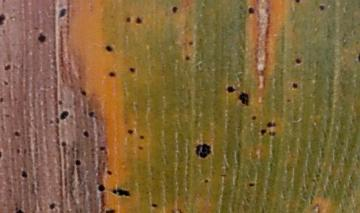tarspot: (198, 142, 212, 159), (237, 90, 250, 106), (116, 187, 133, 198), (36, 32, 47, 44), (58, 109, 69, 120), (57, 7, 67, 19), (193, 143, 201, 157), (225, 84, 236, 94), (96, 183, 106, 192), (81, 129, 90, 138), (104, 44, 113, 53), (293, 56, 302, 65), (20, 169, 28, 179), (3, 63, 11, 72), (79, 88, 87, 97), (73, 158, 82, 166), (134, 16, 143, 24), (265, 120, 272, 130), (30, 182, 35, 195), (13, 130, 21, 138), (48, 202, 56, 210), (87, 110, 95, 118), (108, 70, 116, 78), (247, 6, 255, 14), (259, 128, 267, 136), (53, 116, 60, 125), (247, 181, 256, 188), (14, 207, 24, 213), (1, 12, 5, 26), (2, 79, 9, 87), (105, 169, 113, 176), (128, 66, 136, 73), (171, 5, 178, 13), (317, 4, 325, 11), (126, 128, 135, 134), (150, 202, 159, 208), (56, 98, 63, 105), (60, 140, 67, 147), (110, 187, 117, 194), (202, 177, 209, 184), (183, 54, 190, 61), (250, 114, 257, 121), (291, 82, 298, 89), (15, 147, 21, 155), (97, 145, 105, 151), (136, 145, 144, 151), (356, 51, 360, 62), (3, 112, 10, 118), (33, 145, 39, 152), (19, 62, 25, 69), (32, 25, 39, 31), (47, 118, 53, 125), (89, 147, 95, 154), (138, 134, 145, 140), (125, 16, 131, 23), (176, 207, 183, 213), (187, 40, 194, 46), (1, 124, 5, 134), (22, 147, 27, 155), (271, 130, 277, 136), (270, 121, 276, 127), (285, 98, 291, 104), (169, 208, 176, 213), (1, 149, 4, 160), (1, 28, 6, 34), (13, 96, 18, 102), (267, 130, 272, 136), (292, 1, 301, 4), (145, 189, 150, 194), (1, 1, 7, 4), (1, 95, 3, 104)
